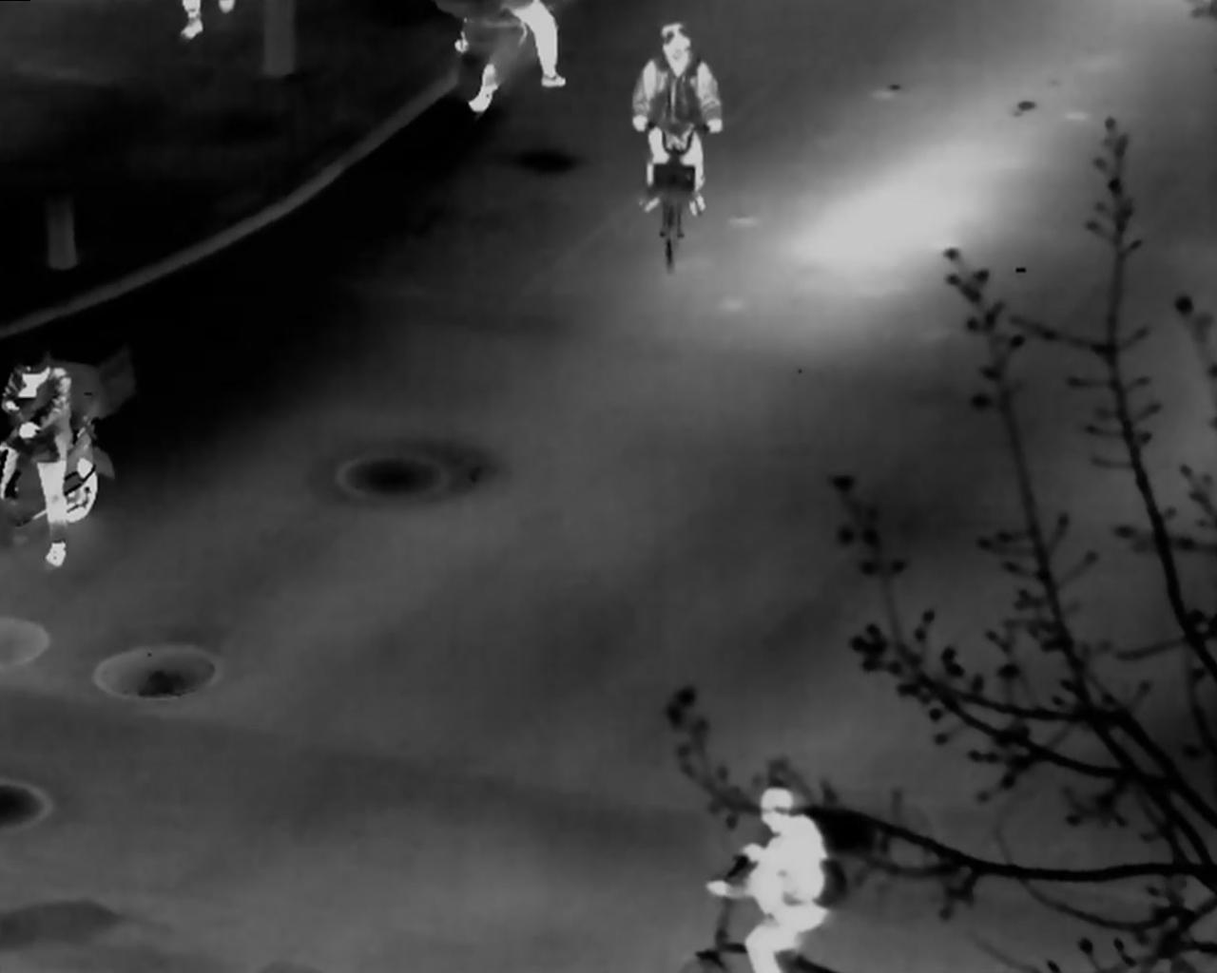person: (704, 787, 834, 973), (631, 21, 724, 218), (2, 348, 71, 567)
